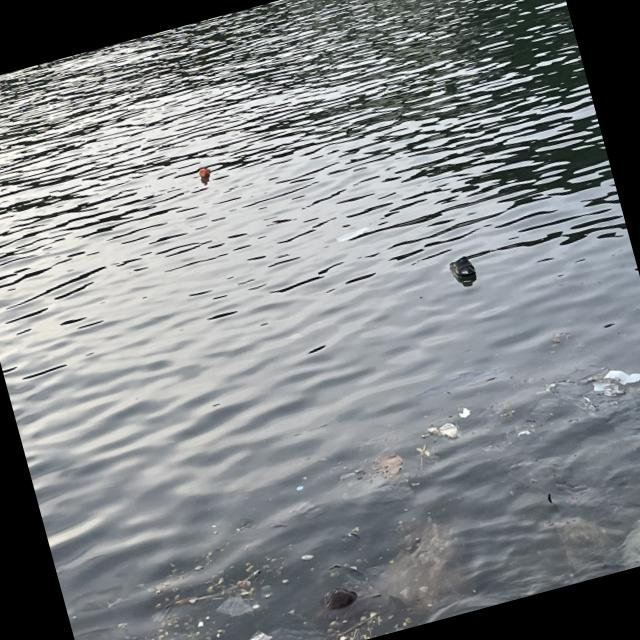plastic bottle: (198, 168, 212, 179)
